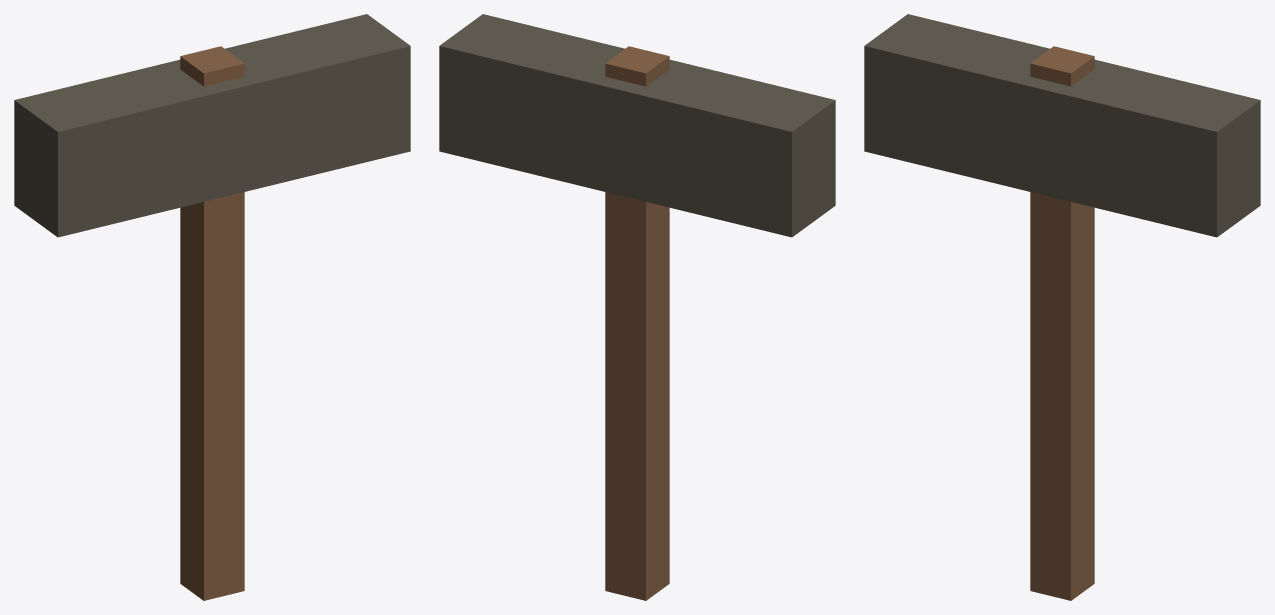
File: acc_tool_hammer.glb
3 renders of one model, left to right at view 1: azimuth 30°, elevation 25°; view 2: azimuth 150°, elevation 25°; view 3: azimuth 330°, elevation 25°, orthographic.
Parts seen in each view (by area): view 1: acc_tool_hammer; view 2: acc_tool_hammer; view 3: acc_tool_hammer.
Boxes of the visible parts, x1=… form: acc_tool_hammer: x1=14, y1=14, x2=410, y2=600; acc_tool_hammer: x1=439, y1=14, x2=835, y2=600; acc_tool_hammer: x1=864, y1=14, x2=1260, y2=600.
Bounding box in the file's own units: 0.56 × 0.8 × 0.12.
Materials: 1 (1 with a texture image).
